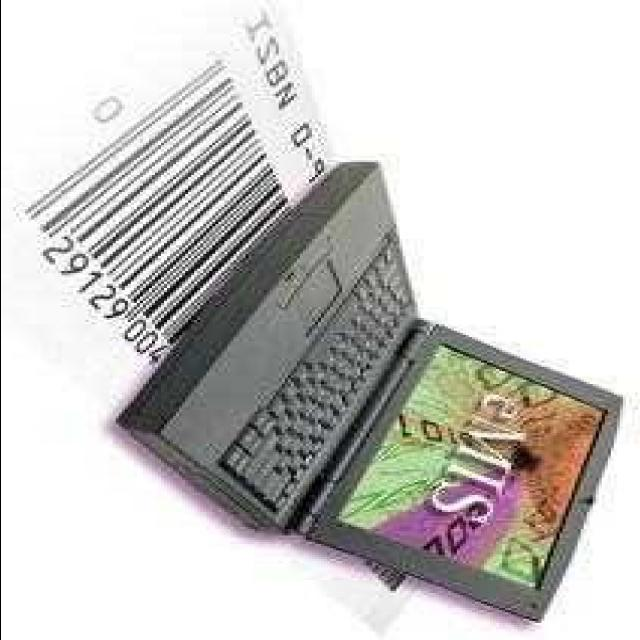laptop: (104, 224, 623, 618)
